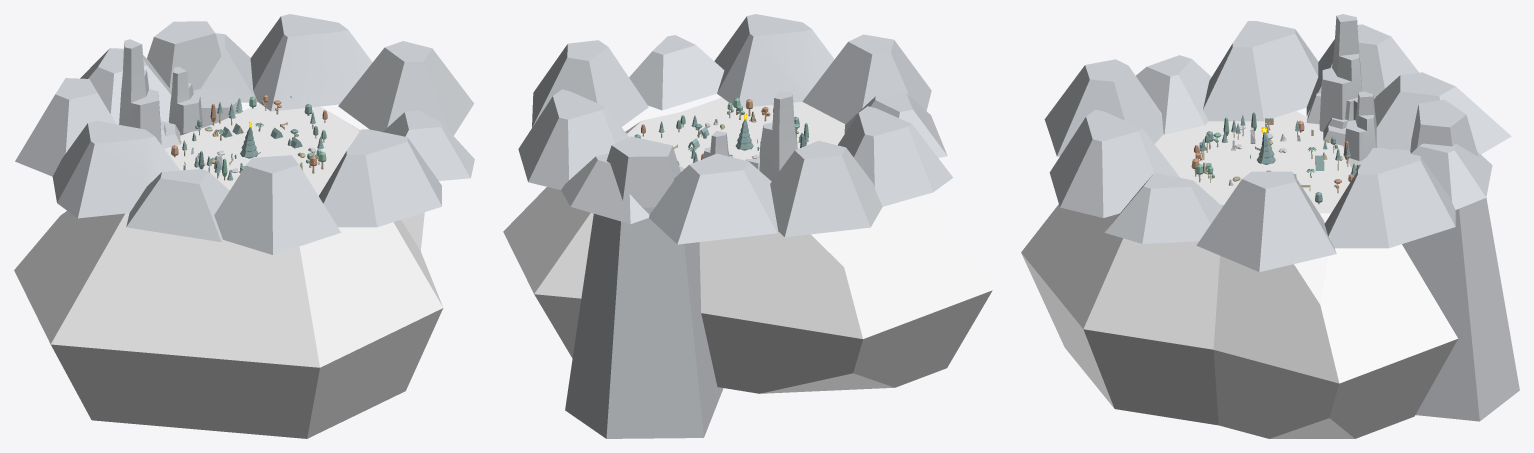
3 views of the same model, side by side, from view 1: azimuth 30°, elevation 25°; view 2: azimuth 150°, elevation 25°; view 3: azimuth 270°, elevation 25° (orthographic). The views are drawn at different scales.
Parts seen in each view (by area): view 1: Mesh1_Group1_Model (×4), Mesh1_Tall_Rock_2_Model; view 2: Mesh1_Group1_Model (×4), Mesh1_Tall_Rock_2_Model; view 3: Mesh1_Group1_Model (×4), Mesh1_Tall_Rock_2_Model.
Boxes of the visible parts, <box> form: Mesh1_Group1_Model (×4): <box>14,14,474,438</box>; Mesh1_Tall_Rock_2_Model: <box>168,67,202,133</box>; Mesh1_Group1_Model (×4): <box>503,14,992,438</box>; Mesh1_Tall_Rock_2_Model: <box>702,131,731,158</box>; Mesh1_Group1_Model (×4): <box>1021,14,1519,438</box>; Mesh1_Tall_Rock_2_Model: <box>1343,91,1376,160</box>.
Bounding box in the file's own units: 181 × 122 × 170.
140 materials, 1 textured.
